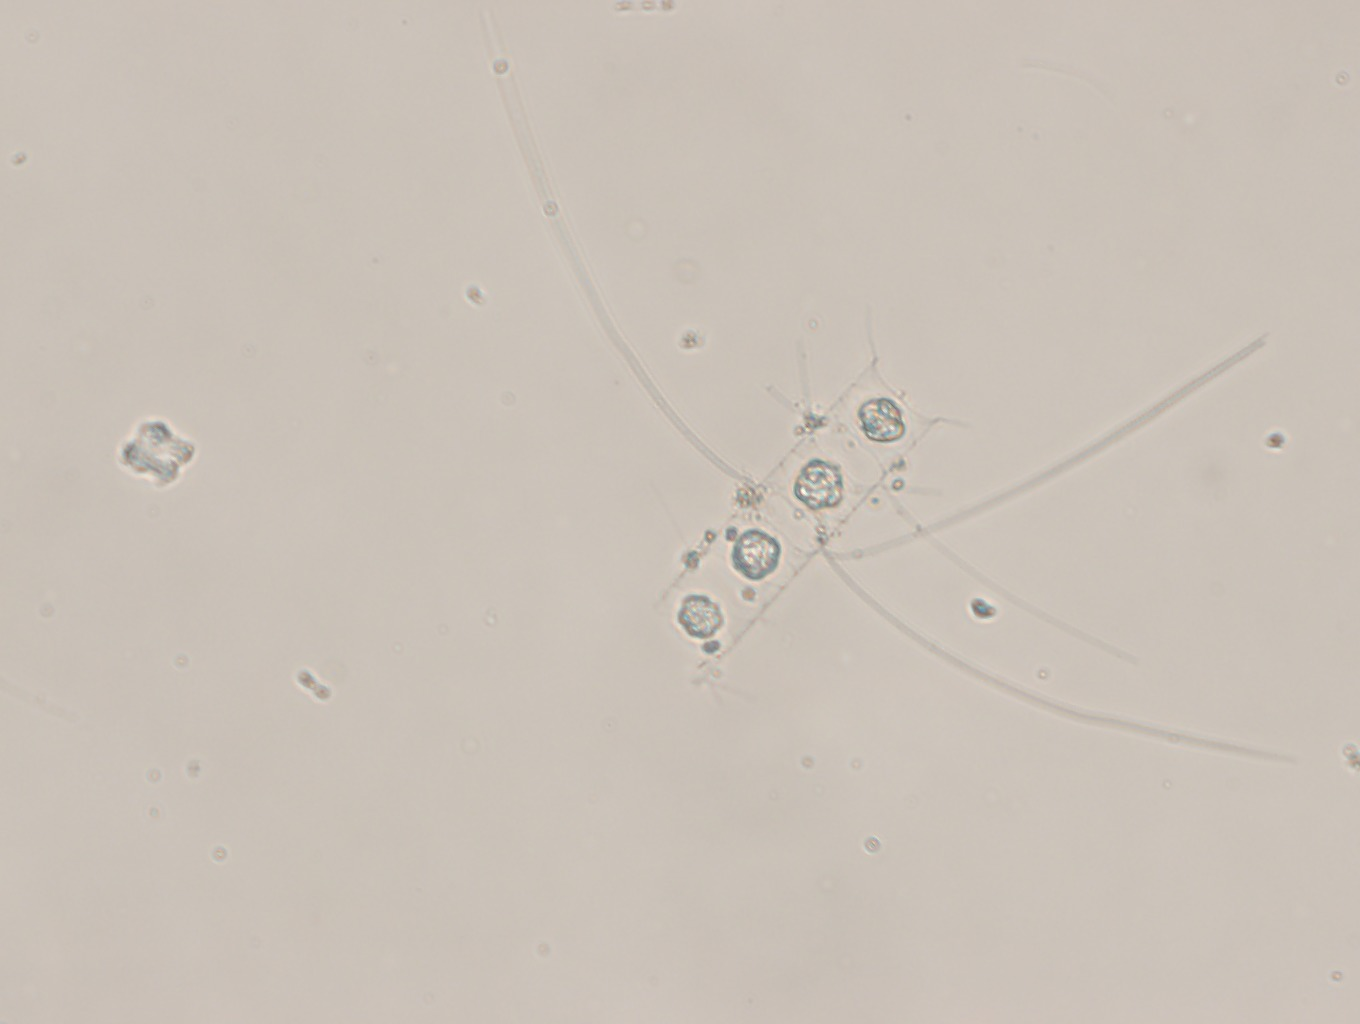chaetoceros: (487, 35, 1305, 787)
